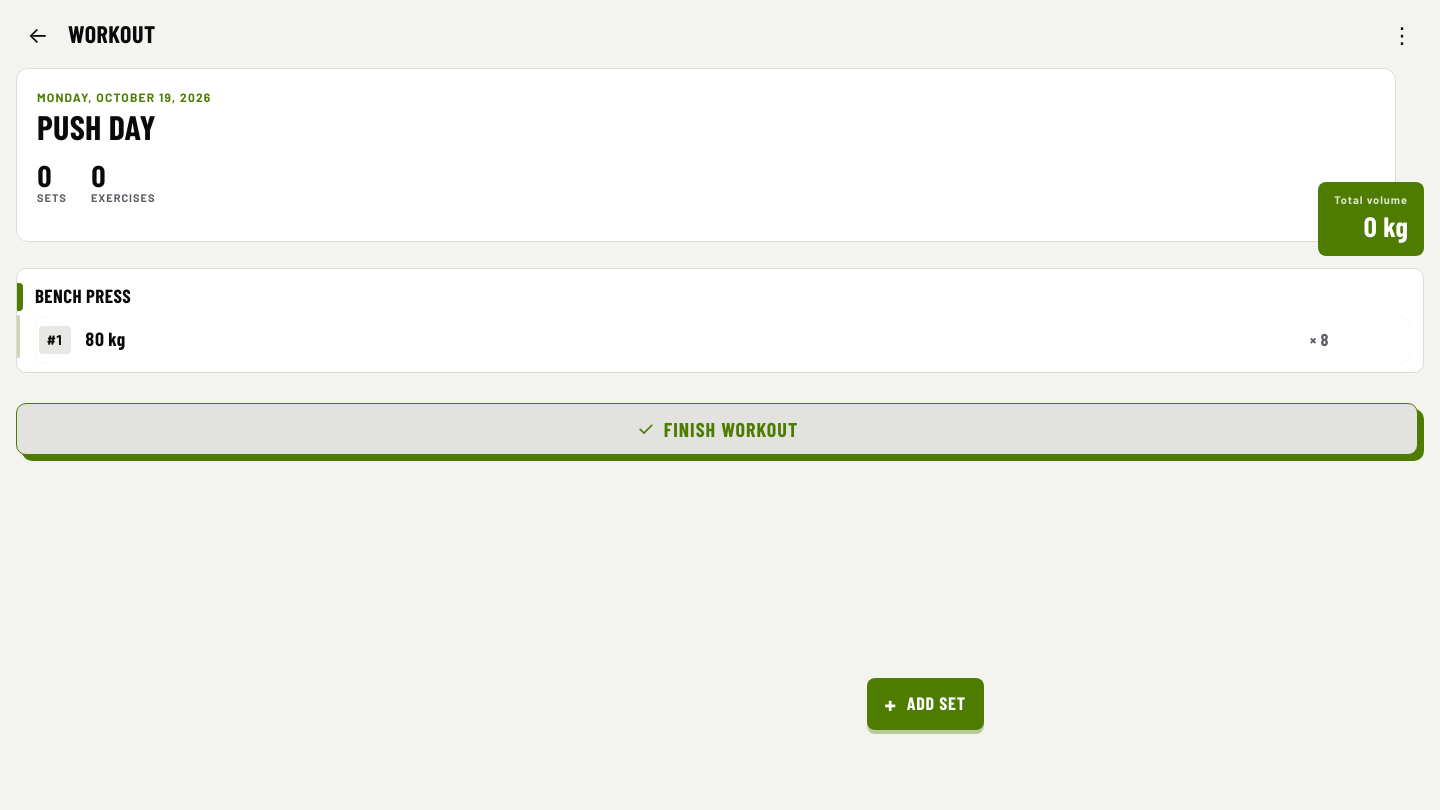
Test: deleting asks first › the set editor asks too, and Cancel keeps the editor open
Step 1. Click the button with test id "saved-set" → point(55, 340), box [35, 316, 1411, 364]
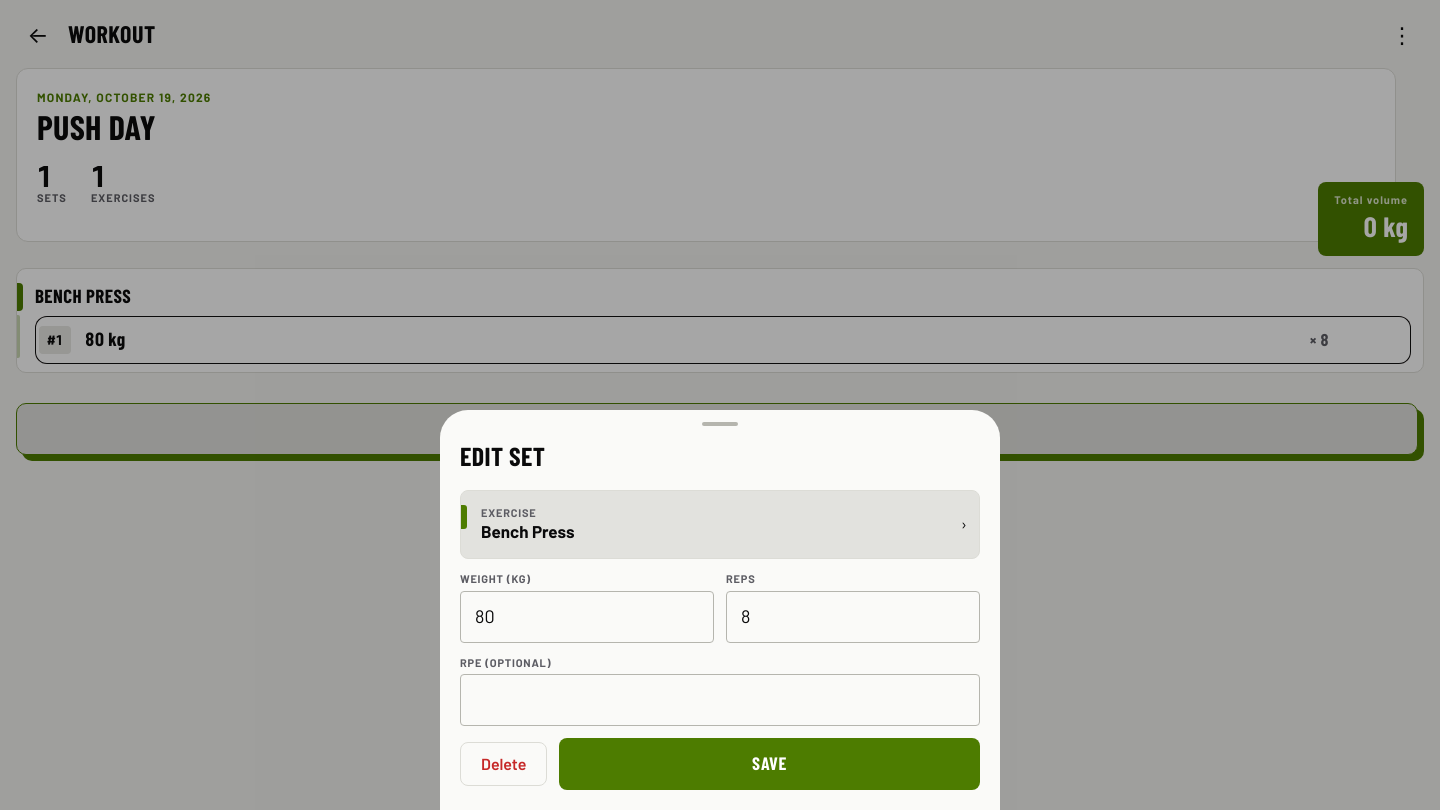
Step 2. Click the button "Delete" → point(504, 764), box [460, 742, 547, 786]
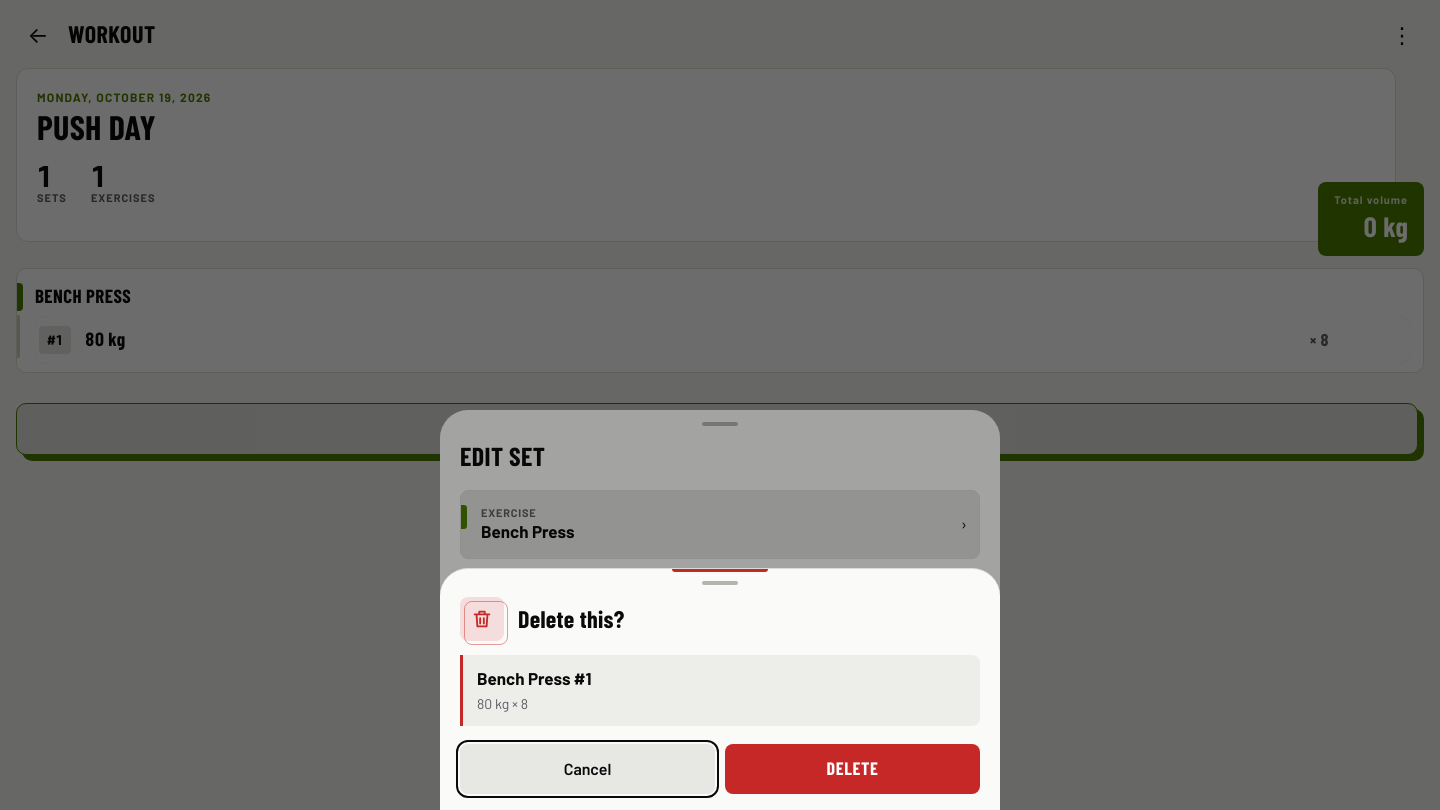
Expected: the dialog shows "Bench Press #1", [477, 668, 592, 688]
Step 3. Click the button "Cancel" → point(588, 769), box [460, 744, 715, 794]
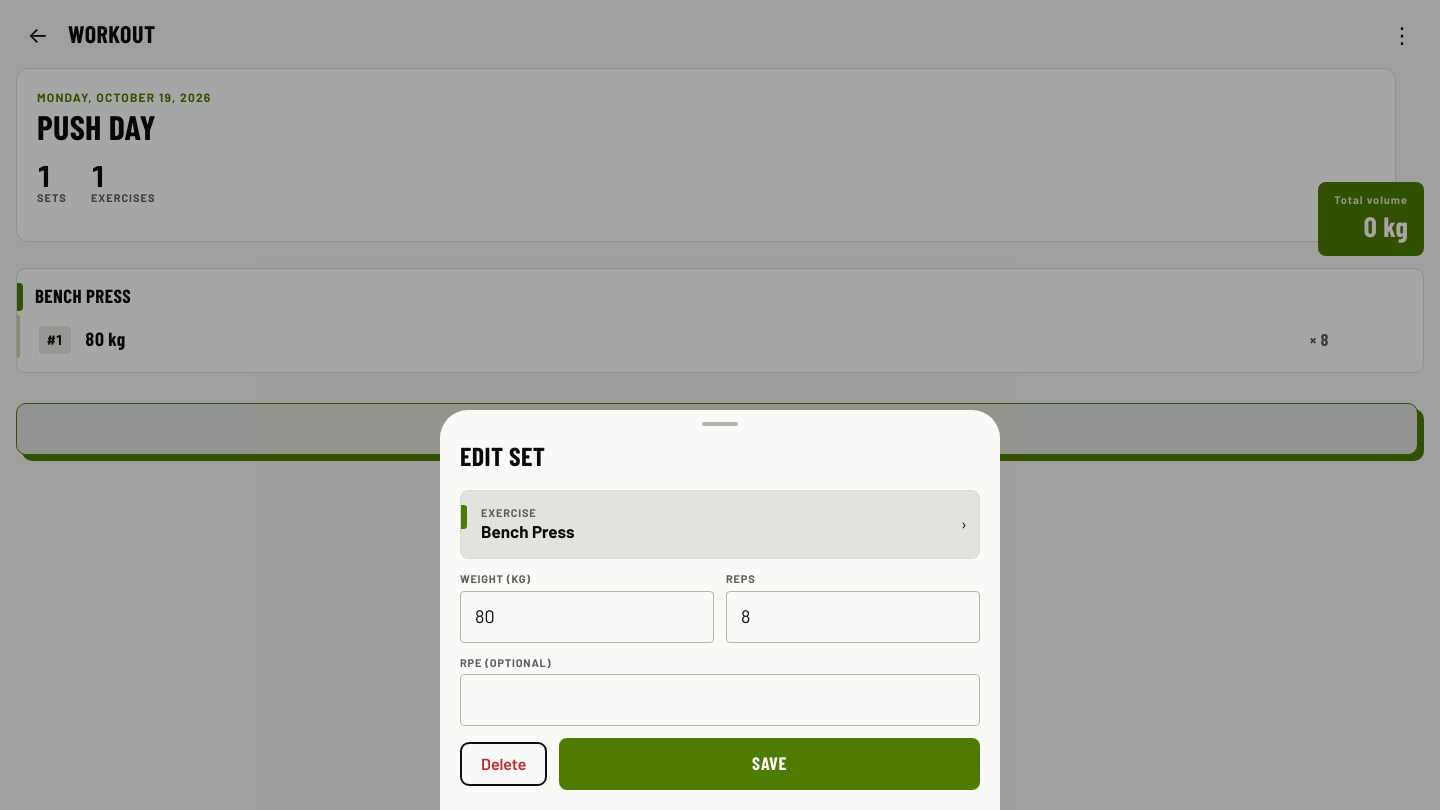
Expected: the dialog "Edit set" is shown, [440, 410, 1000, 809]
Step 4. Click the button "Delete" → point(504, 764), box [460, 742, 547, 786]
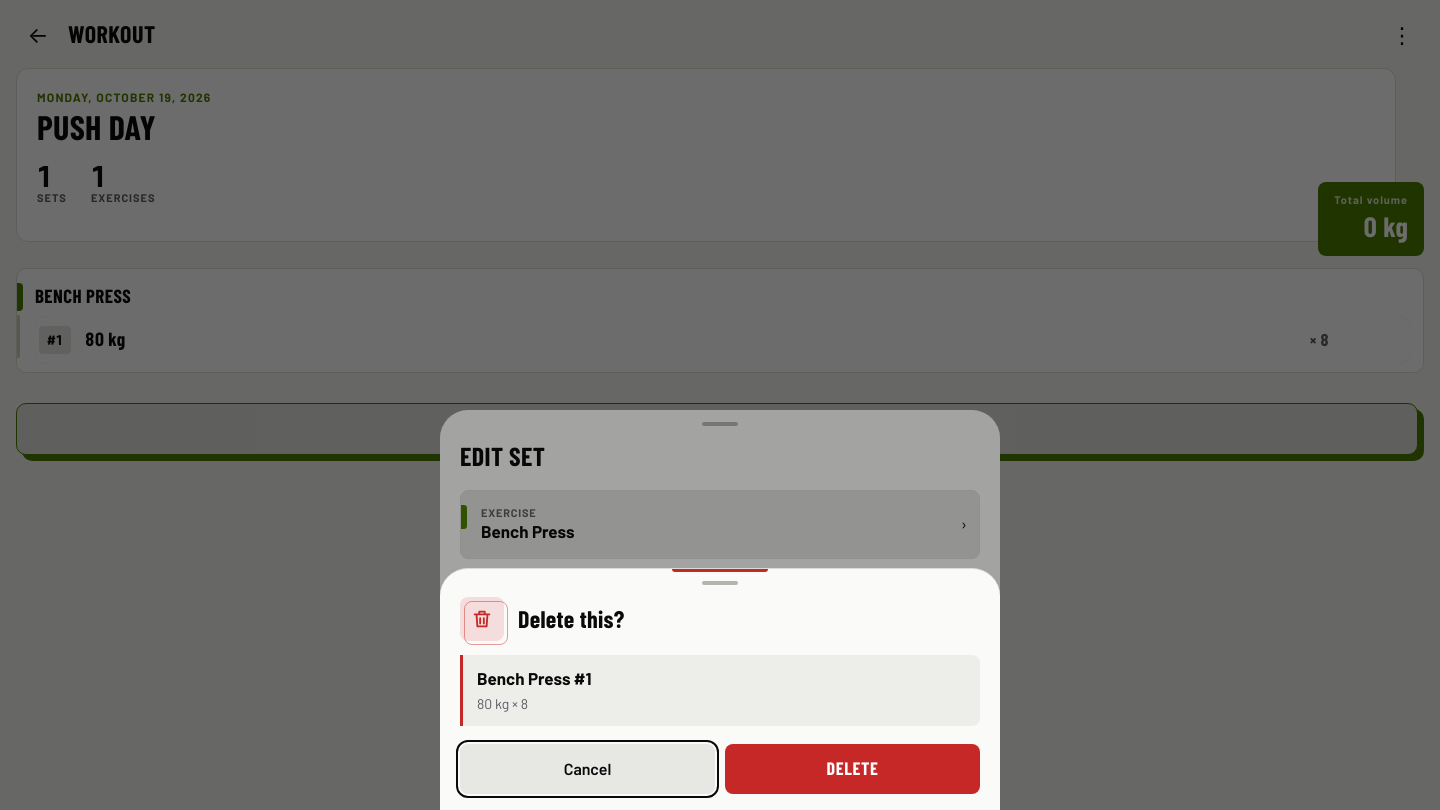
Step 5. Click the button "Delete" → point(852, 769), box [725, 744, 980, 794]
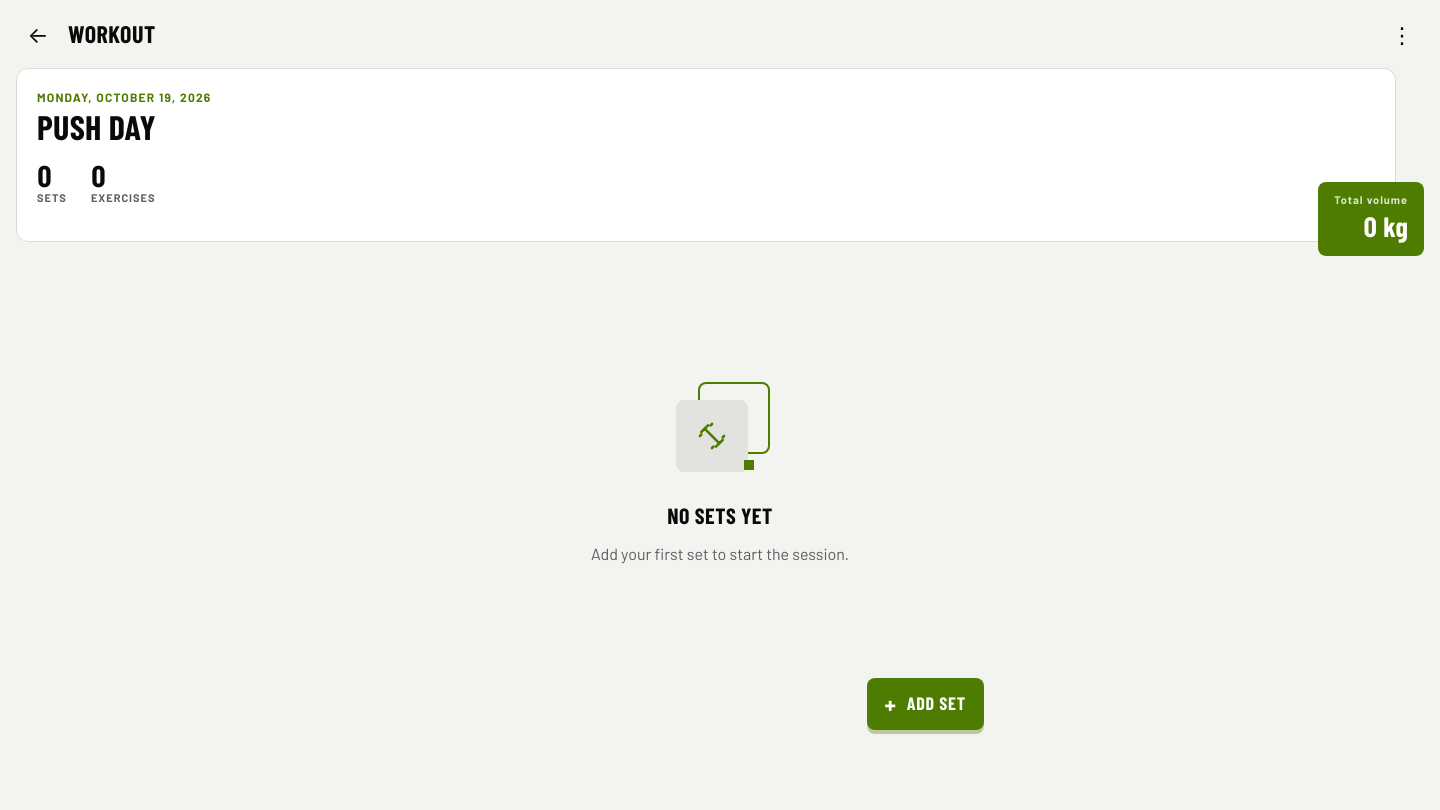
Expected: the heading "Edit set" is gone
